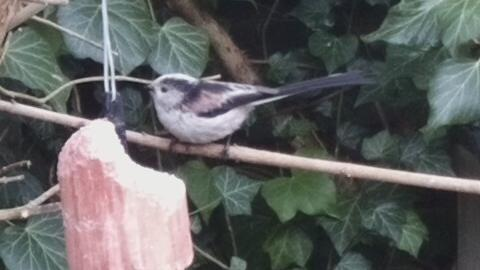long tailed tit: (144, 70, 377, 161)
